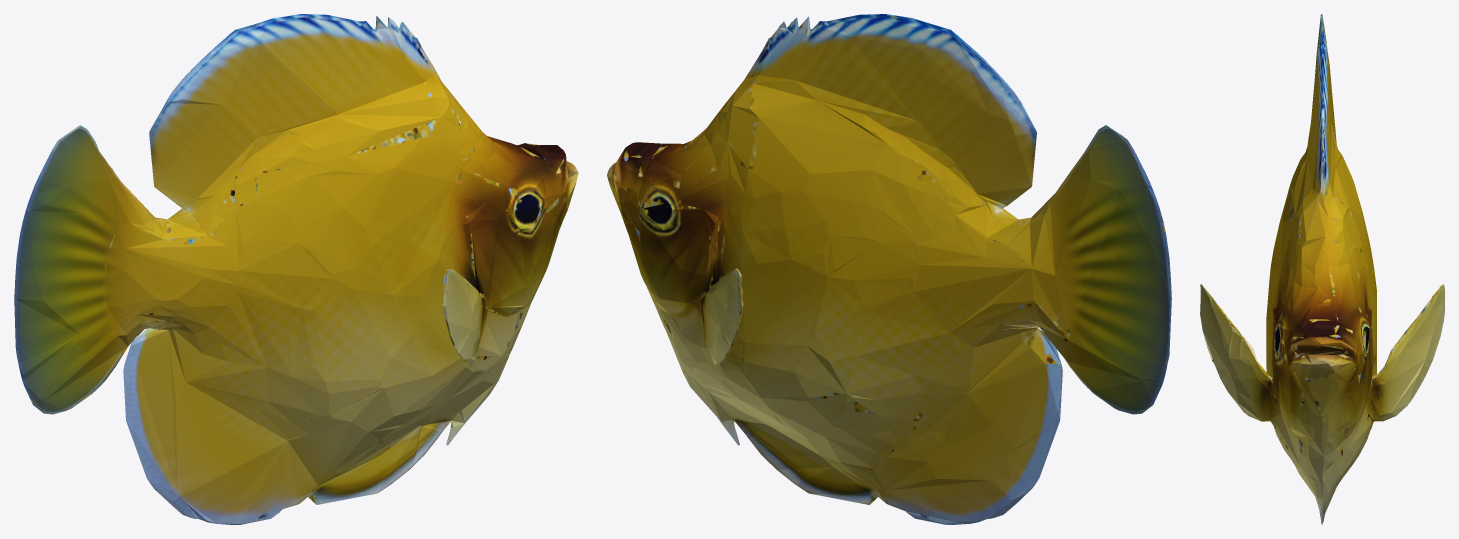
The model's file is fish_0075_smpl23_resized.glb.
The picture shows the model from 3 angles, left to right: view 1: azimuth 30°, elevation 25°; view 2: azimuth 150°, elevation 25°; view 3: azimuth 270°, elevation 25°; orthographic projection. The views are drawn at different scales.
Parts seen in each view (by area): view 1: world; view 2: world; view 3: world.
Part boxes in pixels (x1,y1,x2,y2): world: (14, 14, 578, 524); world: (607, 14, 1171, 524); world: (1200, 14, 1444, 524).
Bounding box in the file's own units: 1.99 × 1.7 × 0.8701.
Materials: 1 (1 with a texture image).
